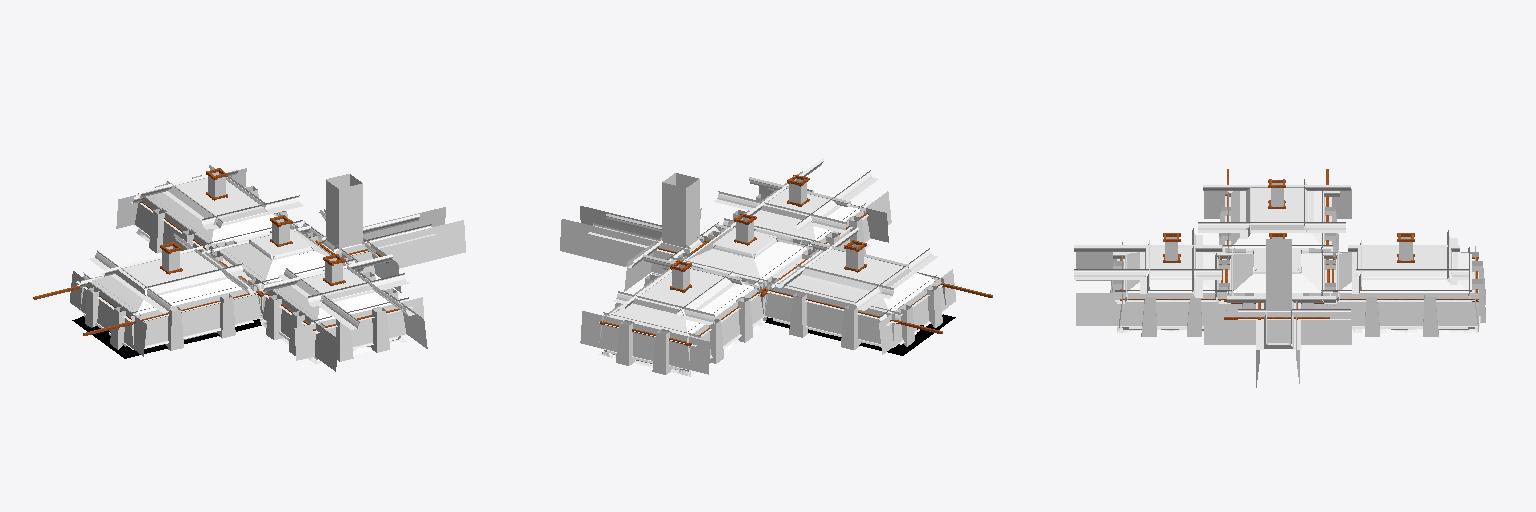
The picture shows the model from 3 angles: view 1: azimuth 30°, elevation 25°; view 2: azimuth 150°, elevation 25°; view 3: azimuth 270°, elevation 25°; orthographic projection.
Visible parts, largest first — view 1: MeshBakerResult; view 2: MeshBakerResult; view 3: MeshBakerResult.
Part boxes in pixels (left/top/right/bottom): MeshBakerResult: left=33, top=165, right=465, bottom=371; MeshBakerResult: left=560, top=158, right=992, bottom=376; MeshBakerResult: left=1074, top=169, right=1485, bottom=387.
Bounding box in the file's own units: 86.45 × 22.37 × 77.93.
Materials: 7 (1 with a texture image).